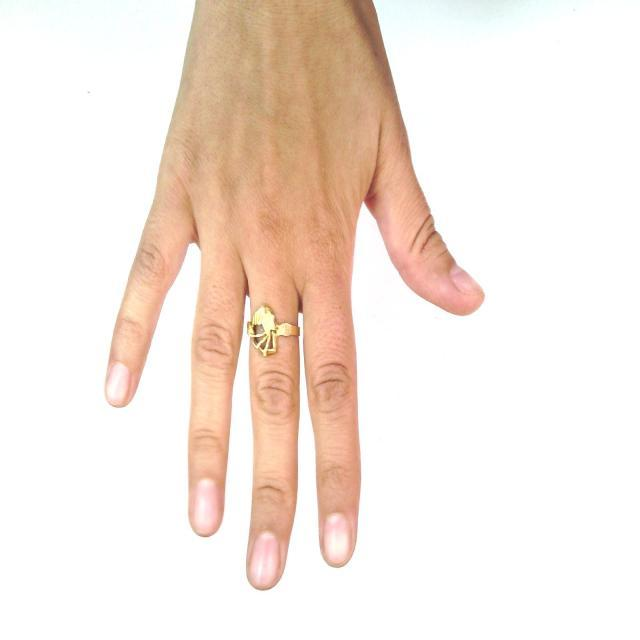Fingernail: (250, 532, 279, 588), (193, 480, 220, 533), (324, 514, 350, 564), (106, 364, 129, 404), (452, 266, 482, 294)
